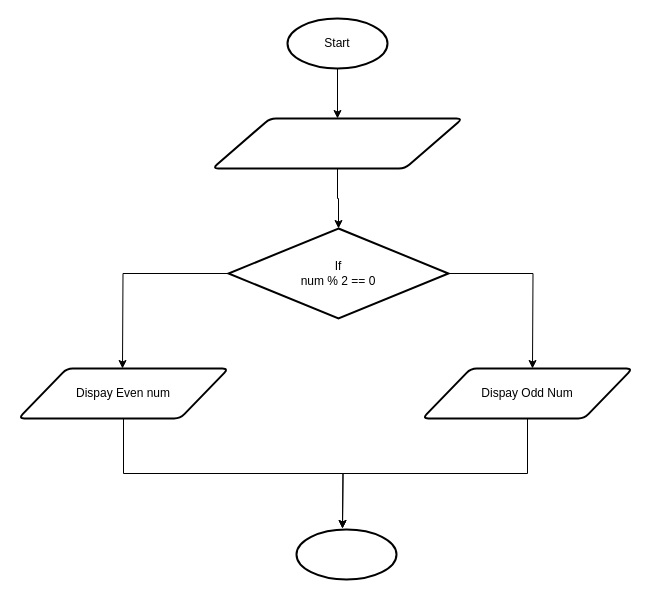
The diagram is 650 pixels wide and 597 high, and some of its shapes have lost their labels. Here are the shapes that lost their labels. From the top down, the centre of each, then its label:
the point at 337,143: input num
the point at 346,554: End
